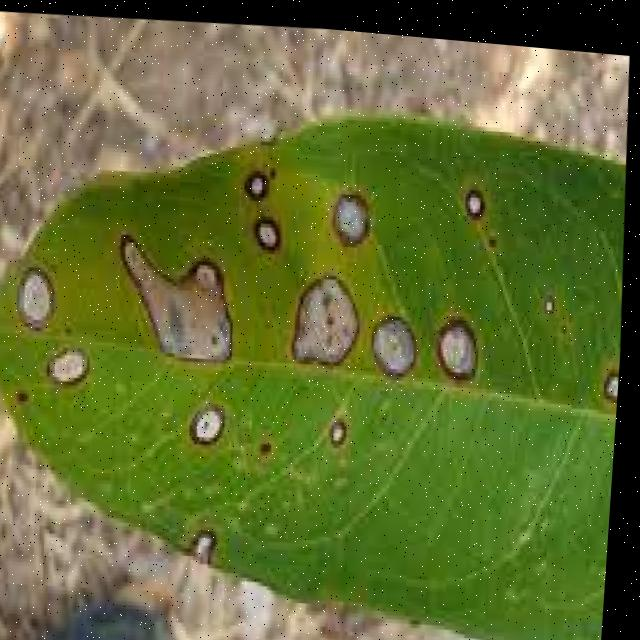Anthracnose: (0, 105, 635, 640), (273, 131, 531, 432)
